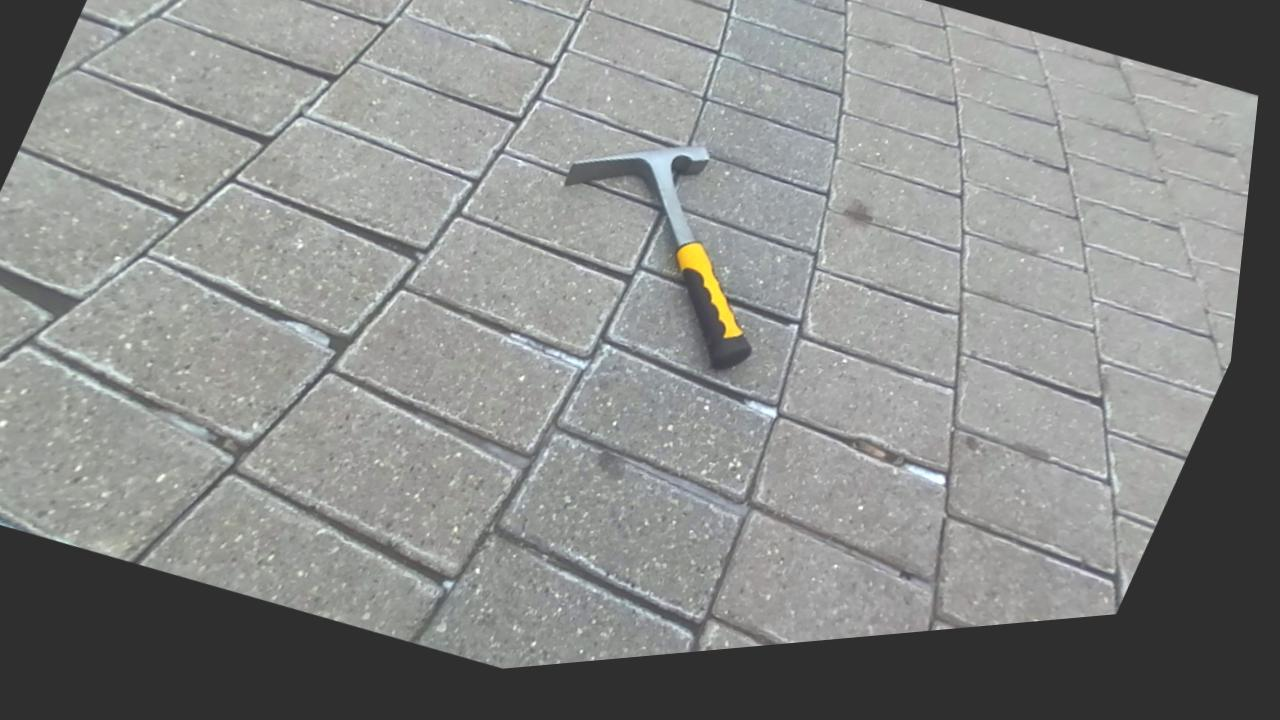pick: (564, 146, 751, 369)
